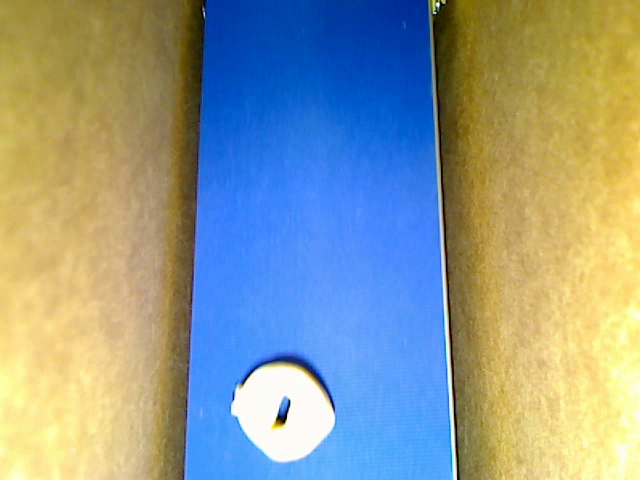tortellini: (232, 360, 336, 464)
